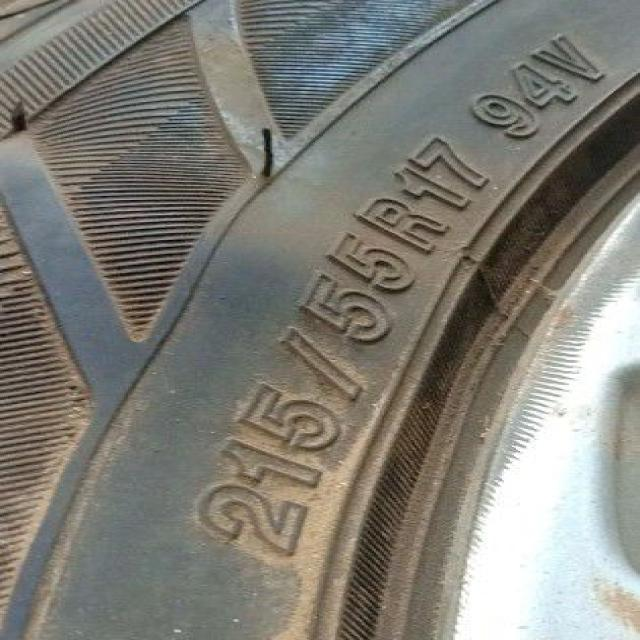Bulge: (0, 146, 396, 317)
